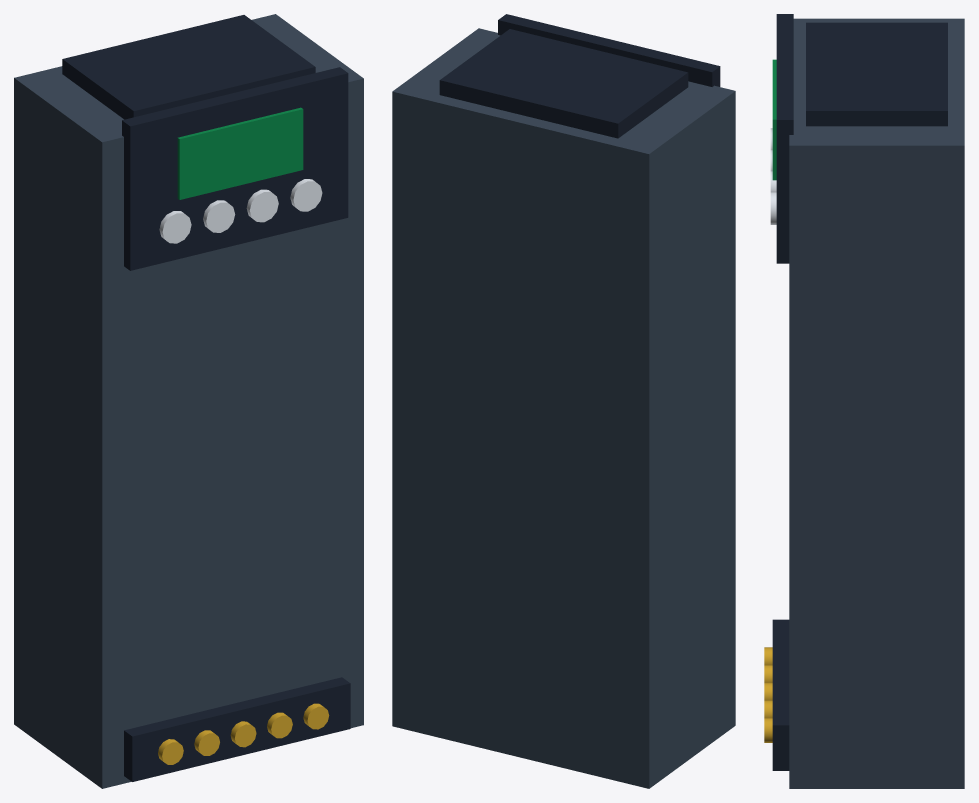
Rendered from vfd.glb.
3 views of the same model, side by side, from view 1: azimuth 30°, elevation 25°; view 2: azimuth 150°, elevation 25°; view 3: azimuth 270°, elevation 25° (orthographic).
Bounding box in the file's own units: 0.72 × 1.74 × 0.48.
